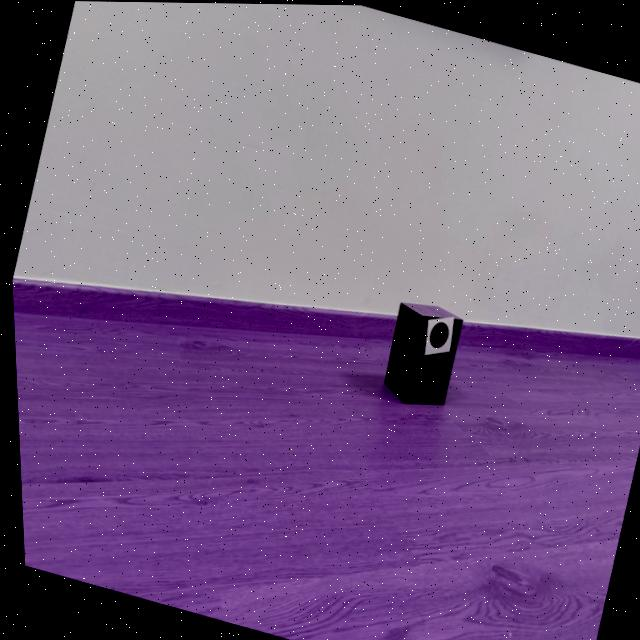CIRCLE: (425, 320, 445, 347)
